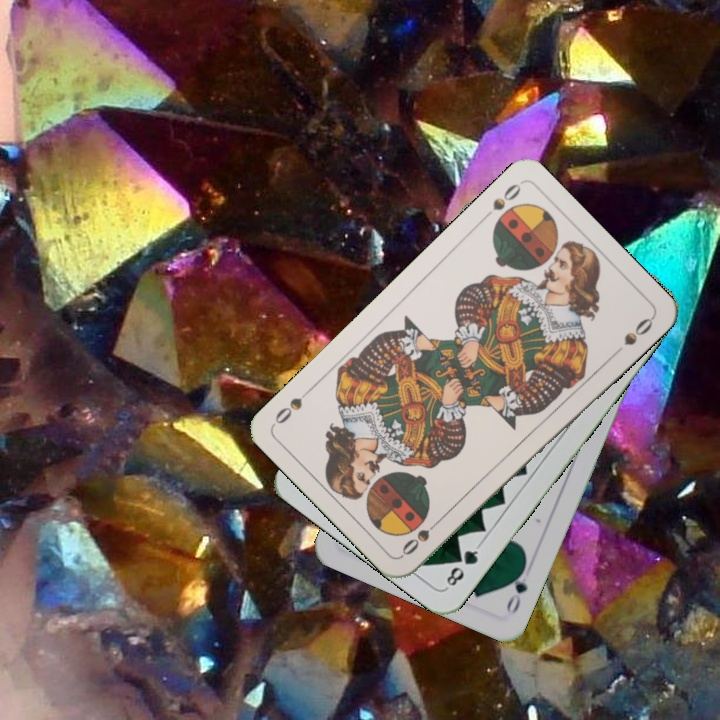G8: (442, 540, 483, 591)
GO: (502, 560, 531, 617)
SO: (397, 513, 446, 558), (477, 179, 524, 224)
